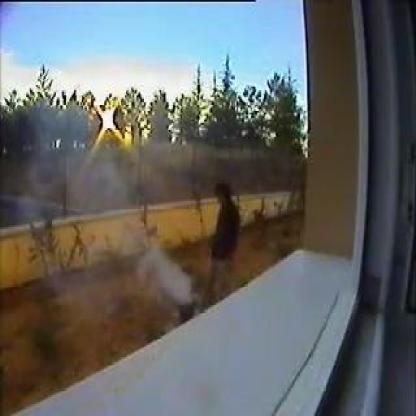-: (140, 253, 190, 295)
